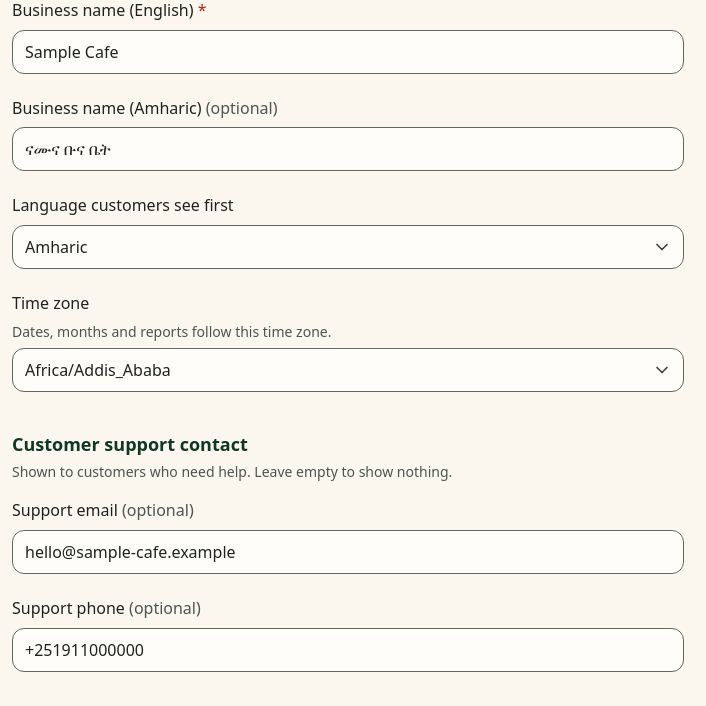
Test: settings screen › checks the values before asking the backend
Clear the field labelled "Business name (English) *" at [348, 52], box top-left (12, 30), bottom-right (684, 74)
(page scrolled)
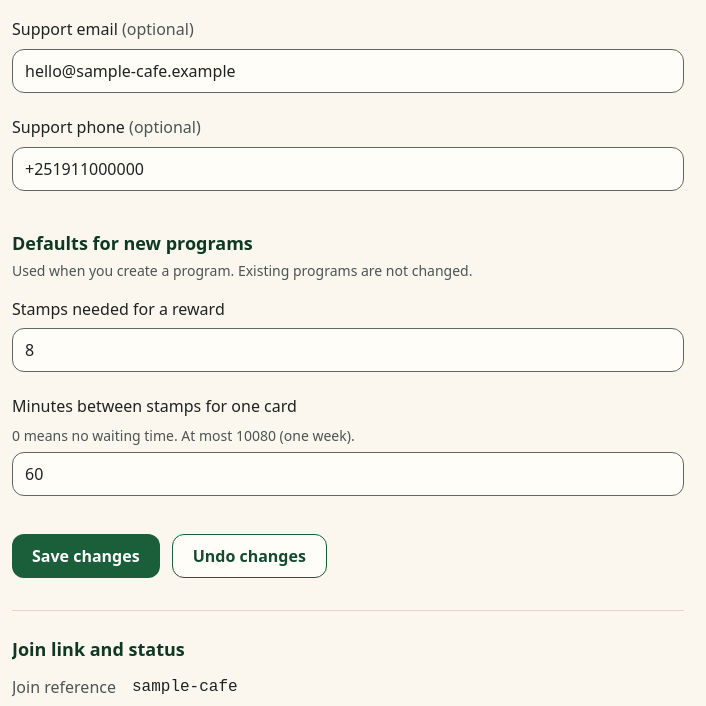
Replace the text in the field labelled "Stamps needed for a reward" with "5000" at [348, 350], box top-left (12, 328), bottom-right (684, 372)
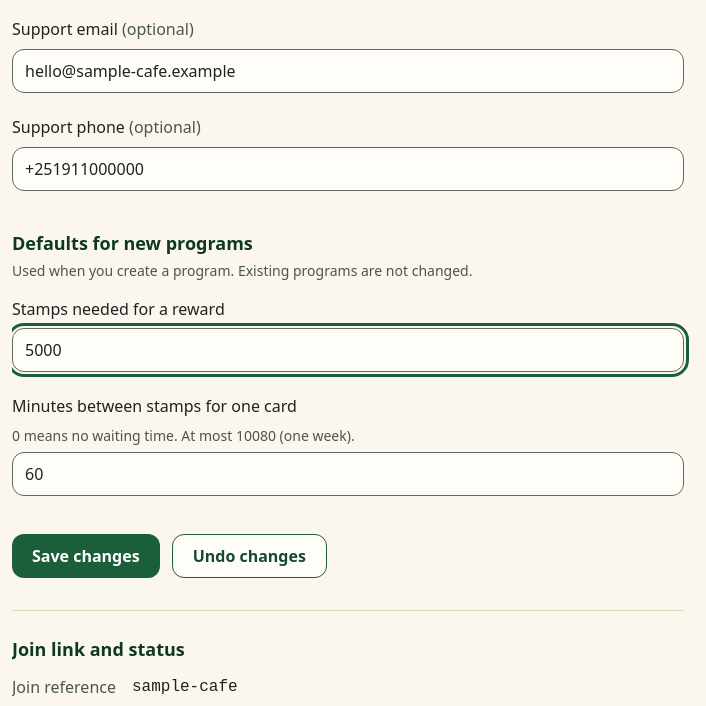
Type "12" into the field labelled "Support phone (optional)" at [348, 169], box top-left (12, 147), bottom-right (684, 191)
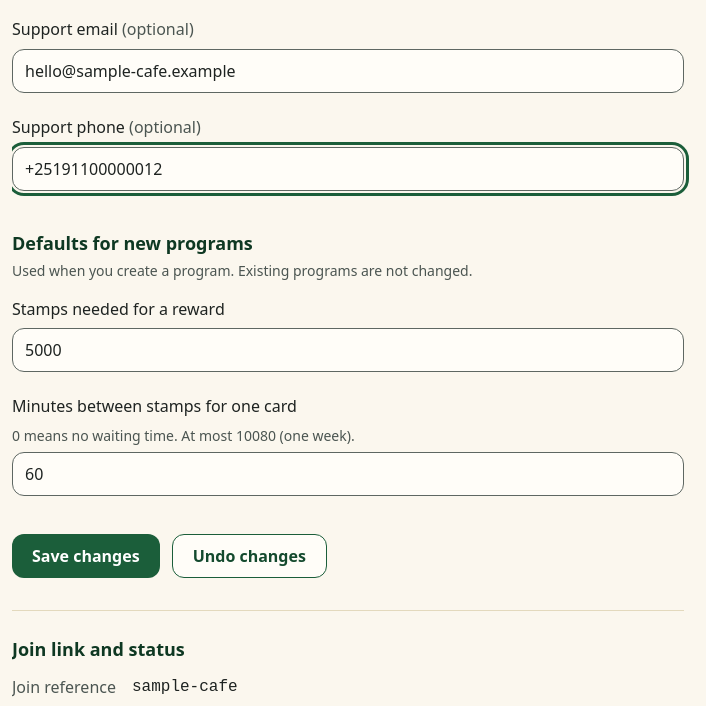
Click the button "Save changes" at [86, 556], box top-left (12, 534), bottom-right (160, 578)
(page scrolled)
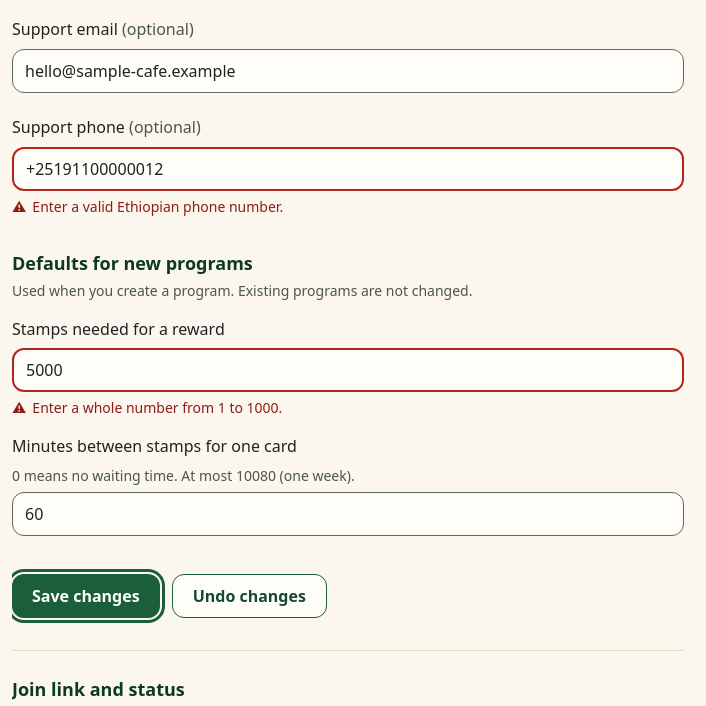
expect the text "Enter a whole number from 1 to 1000." is shown: met, box top-left (32, 398), bottom-right (282, 418)
expect the text "Enter a valid Ethiopian phone number." is shown: met, box top-left (32, 197), bottom-right (283, 217)
